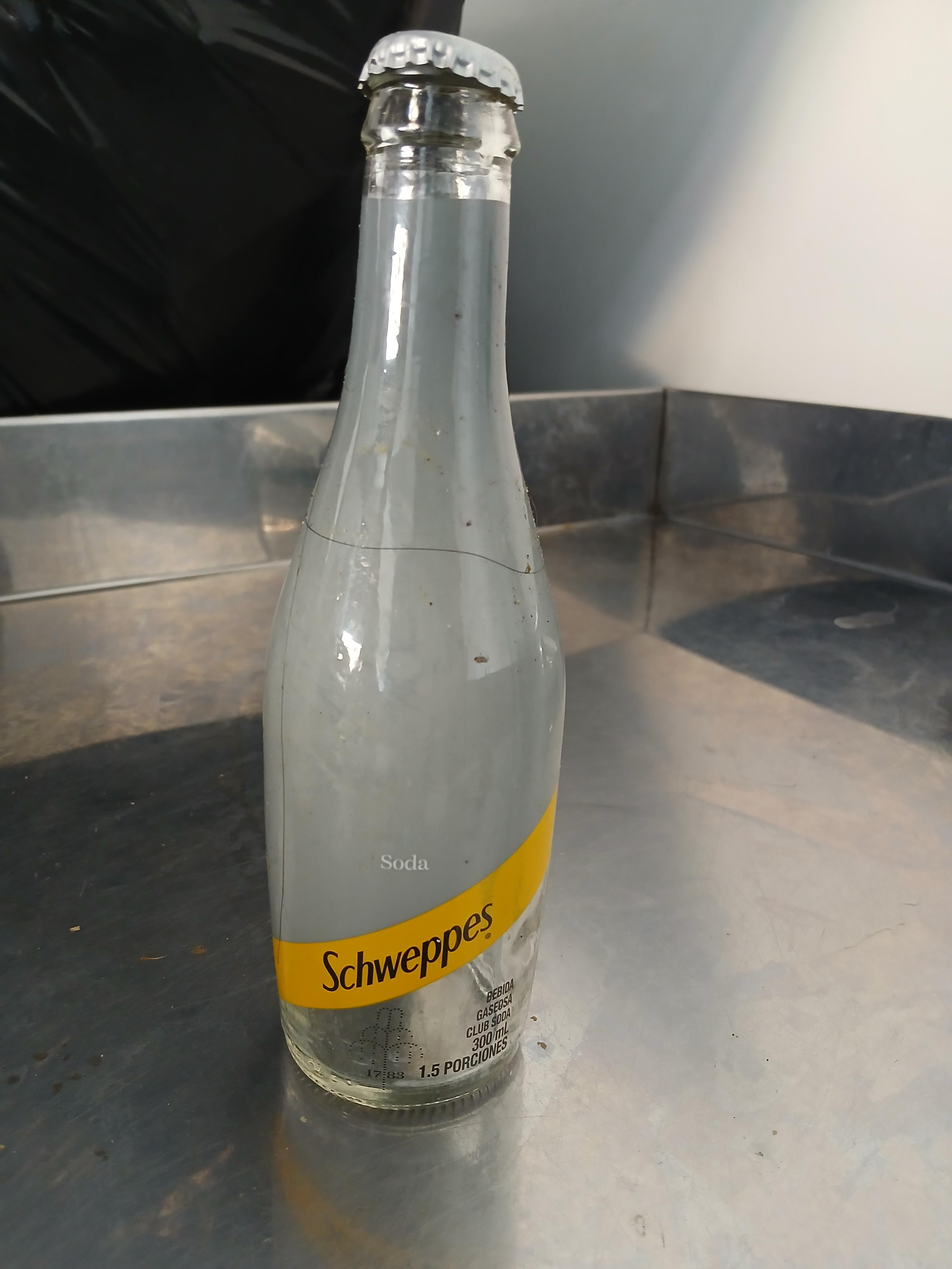Metal: (356, 28, 522, 81)
Vidrio: (266, 85, 570, 1110)
